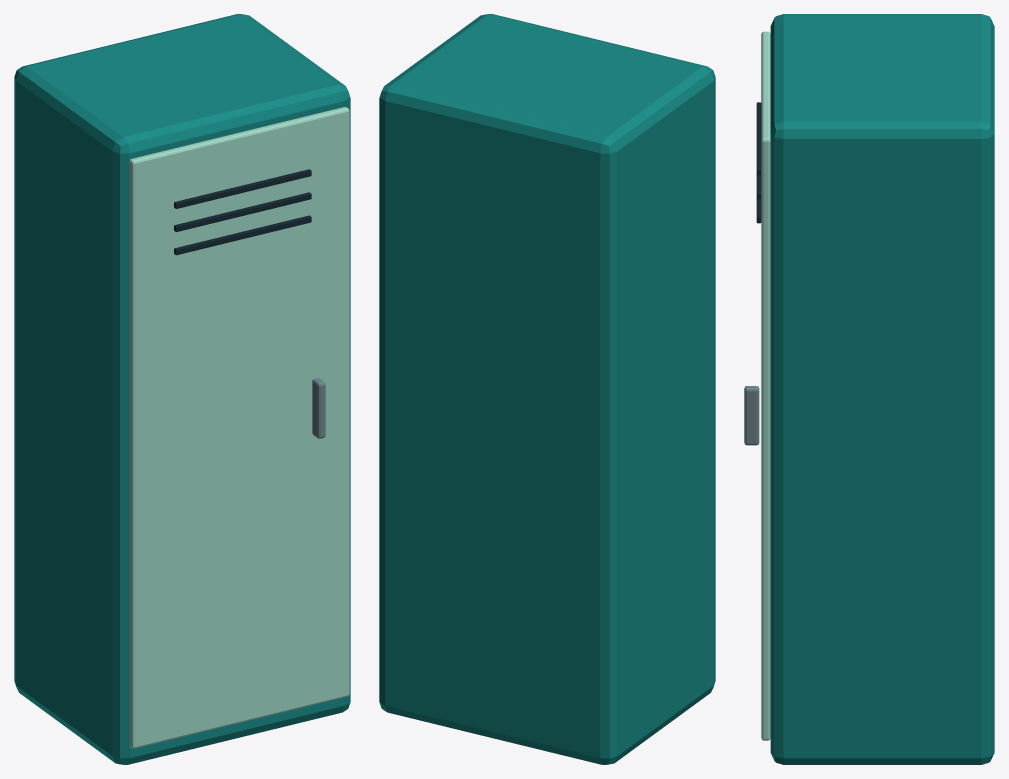
Rendered from Service_Locker.fbx.
3 renders of one model, left to right at view 1: azimuth 30°, elevation 25°; view 2: azimuth 150°, elevation 25°; view 3: azimuth 270°, elevation 25°, orthographic. The views are drawn at different scales.
Parts seen in each view (by area): view 1: Service_Locker_Mesh; view 2: Service_Locker_Mesh; view 3: Service_Locker_Mesh.
Part boxes in pixels (x1,y1,x2,y2): Service_Locker_Mesh: (14, 14, 350, 764); Service_Locker_Mesh: (379, 14, 715, 764); Service_Locker_Mesh: (744, 14, 994, 764).
Bounding box in the file's own units: 0.75 × 1.9 × 0.67.
1 material, 1 textured.
